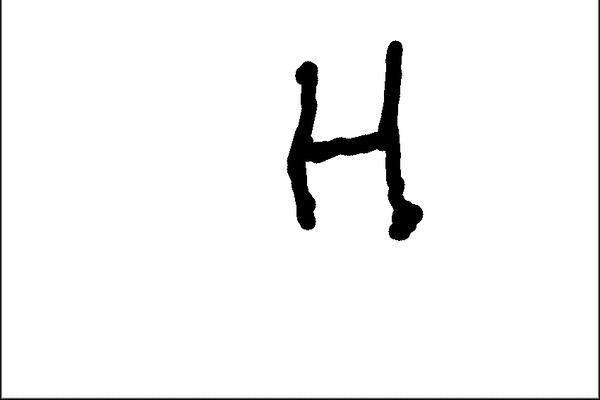H: (284, 36, 428, 245)
